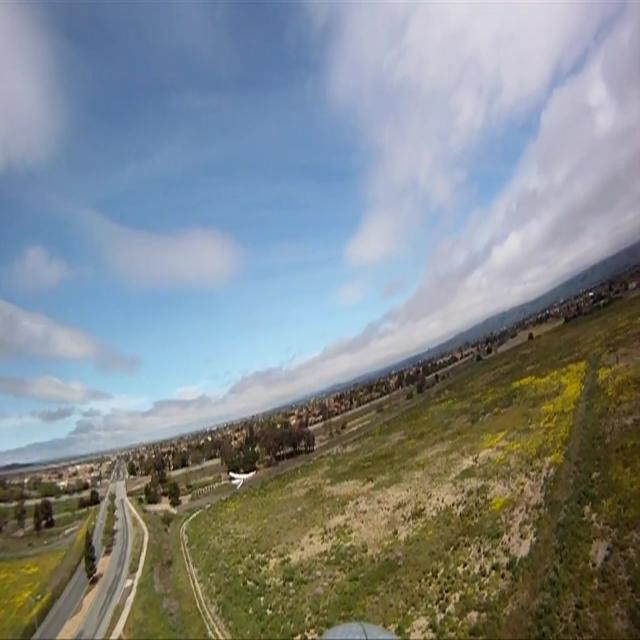iha: (229, 469, 256, 491)
